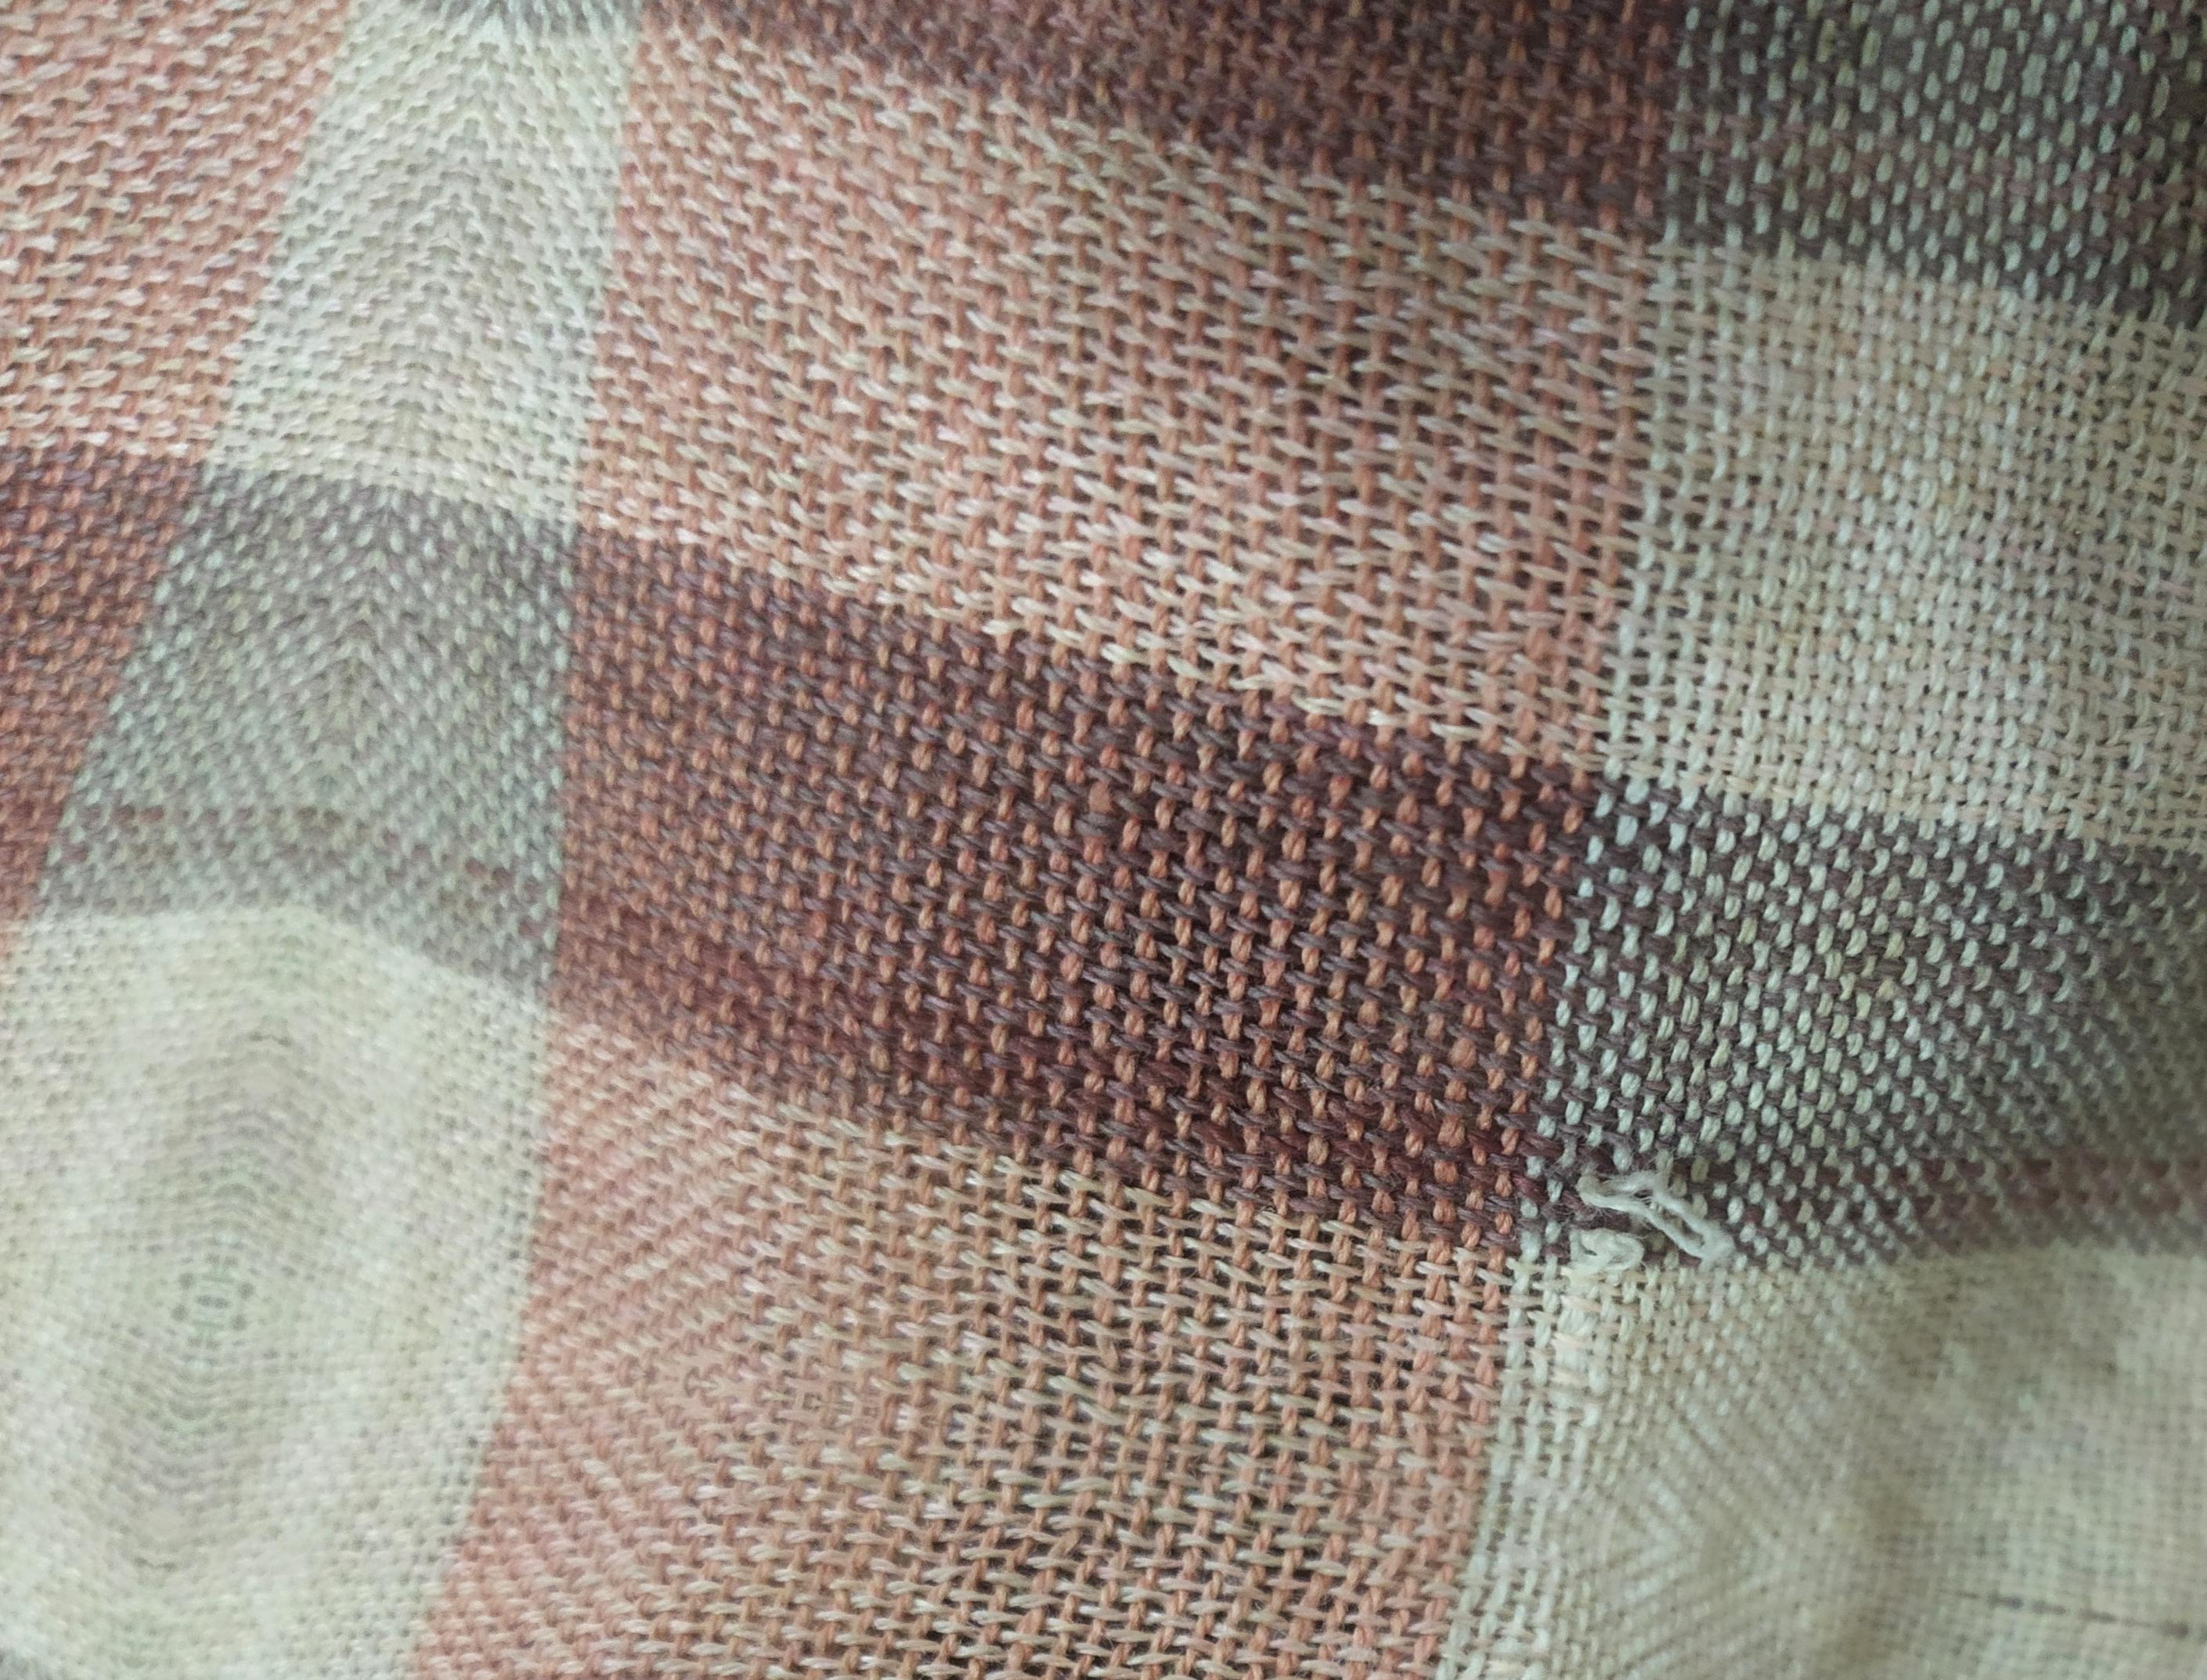snag: (1521, 1149, 1759, 1311)
